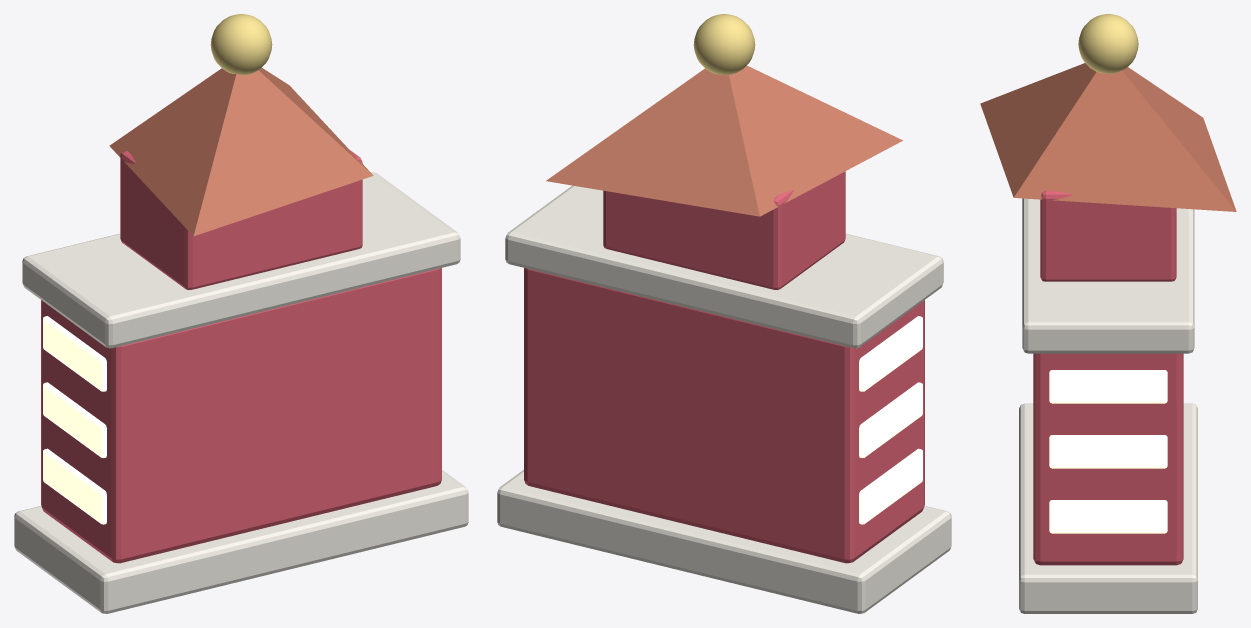
The model's file is estancia_hotel.glb.
3 views of the same model, side by side, from view 1: azimuth 30°, elevation 25°; view 2: azimuth 150°, elevation 25°; view 3: azimuth 270°, elevation 25° (orthographic). The views are drawn at different scales.
Visible parts, largest first — view 1: MainManor, Cornice, ManorRoof, Plinth, Tower, GoldSpire, WinBandLow, WinBandMid, WinBandTop; view 2: MainManor, ManorRoof, Cornice, Plinth, Tower, GoldSpire, WinBandLow, WinBandMid, WinBandTop; view 3: ManorRoof, MainManor, Cornice, Plinth, Tower, WinBandLow, WinBandMid, WinBandTop, GoldSpire.
Part boxes in pixels (x1=…): MainManor: x1=41, y1=268, x2=441, y2=563; Cornice: x1=22, y1=172, x2=460, y2=348; ManorRoof: x1=109, y1=67, x2=373, y2=236; Plinth: x1=14, y1=470, x2=468, y2=613; Tower: x1=120, y1=147, x2=362, y2=289; GoldSpire: x1=210, y1=14, x2=272, y2=74; WinBandLow: x1=43, y1=448, x2=106, y2=524; WinBandMid: x1=43, y1=382, x2=106, y2=457; WinBandTop: x1=43, y1=316, x2=106, y2=391; MainManor: x1=524, y1=268, x2=924, y2=563; ManorRoof: x1=546, y1=65, x2=902, y2=216; Cornice: x1=505, y1=185, x2=943, y2=348; Plinth: x1=497, y1=470, x2=951, y2=613; Tower: x1=603, y1=171, x2=845, y2=289; GoldSpire: x1=693, y1=14, x2=755, y2=75; WinBandLow: x1=859, y1=448, x2=922, y2=524; WinBandMid: x1=859, y1=382, x2=922, y2=457; WinBandTop: x1=859, y1=316, x2=922, y2=391; ManorRoof: x1=980, y1=63, x2=1236, y2=211; MainManor: x1=1033, y1=353, x2=1183, y2=565; Cornice: x1=1022, y1=198, x2=1194, y2=353; Plinth: x1=1019, y1=403, x2=1197, y2=613; Tower: x1=1040, y1=190, x2=1176, y2=281; WinBandLow: x1=1049, y1=500, x2=1167, y2=533; WinBandMid: x1=1049, y1=435, x2=1167, y2=468; WinBandTop: x1=1049, y1=370, x2=1167, y2=403; GoldSpire: x1=1078, y1=14, x2=1138, y2=73.
Bounding box in the file's own units: 0.58 × 0.787 × 0.3578.
